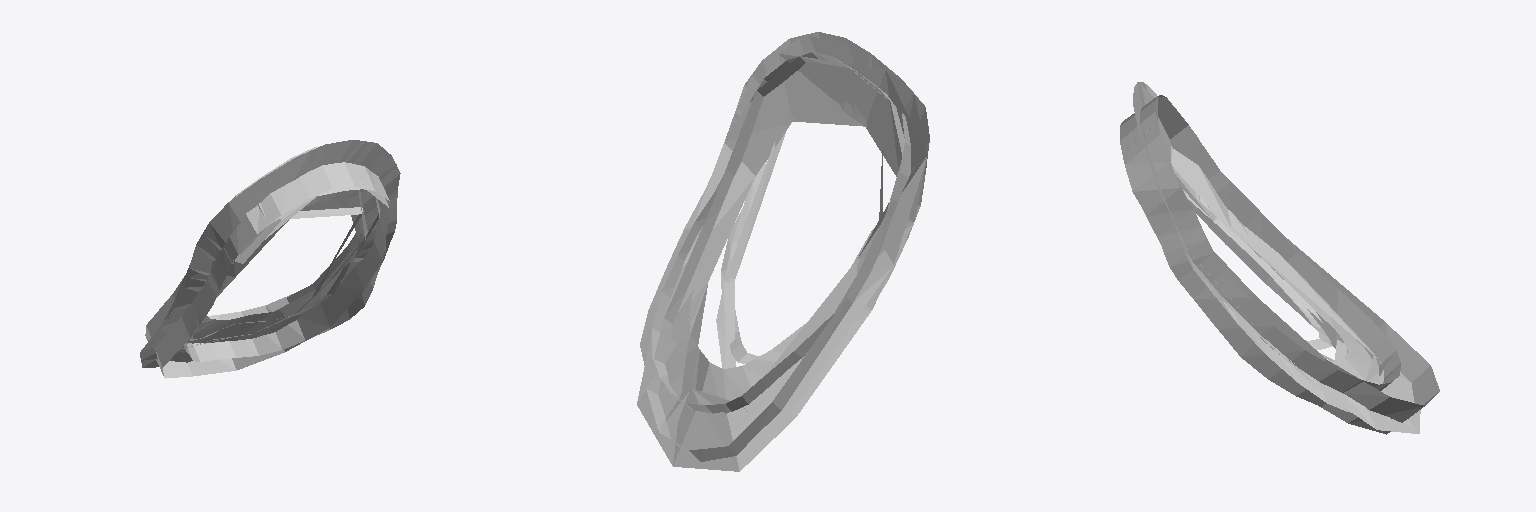
Rendered from accs_000_u.obj.
The picture shows the model from 3 angles: view 1: azimuth 30°, elevation 25°; view 2: azimuth 150°, elevation 25°; view 3: azimuth 270°, elevation 25°; orthographic projection.
Visible parts, largest first — view 1: accs_000_u_high_1, accs_000_u_med_1, accs_000_u_low_1; view 2: accs_000_u_low_1, accs_000_u_med_1, accs_000_u_high_1; view 3: accs_000_u_high_1, accs_000_u_med_1, accs_000_u_low_1.
Boxes of the visible parts, <box> form: accs_000_u_high_1: <box>162,140,400,361</box>; accs_000_u_med_1: <box>140,141,396,378</box>; accs_000_u_low_1: <box>141,202,362,360</box>; accs_000_u_low_1: <box>657,54,927,433</box>; accs_000_u_med_1: <box>637,36,927,471</box>; accs_000_u_high_1: <box>640,32,929,413</box>; accs_000_u_high_1: <box>1120,82,1400,412</box>; accs_000_u_med_1: <box>1122,84,1439,434</box>; accs_000_u_low_1: <box>1141,85,1396,429</box>.
Bounding box in the file's own units: 0.1738 × 0.2505 × 0.2192.